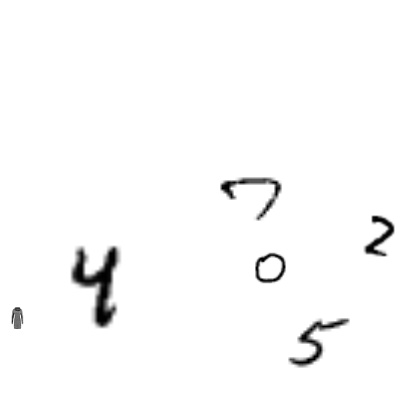0: (248, 247, 290, 289)
2: (352, 208, 408, 264), (45, 234, 59, 248)
4: (40, 227, 152, 339)
5: (271, 298, 355, 382)
7: (209, 148, 293, 232)
Dress: (6, 307, 28, 329)
